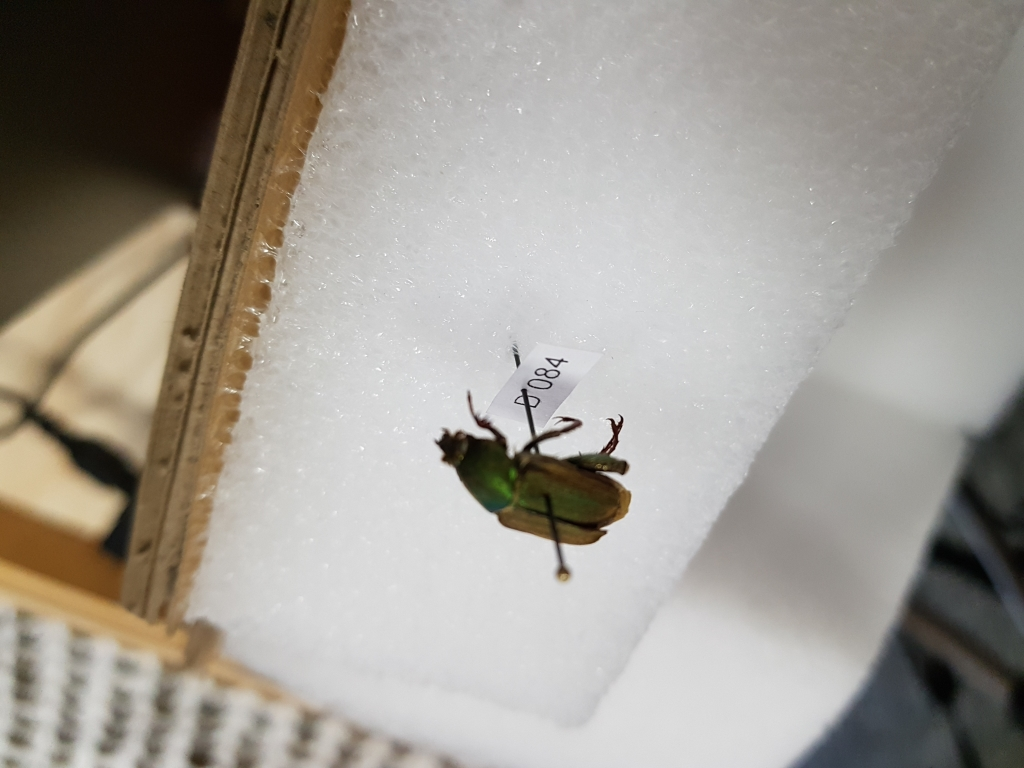Glaphyrus_superbus: (429, 392, 659, 557)
